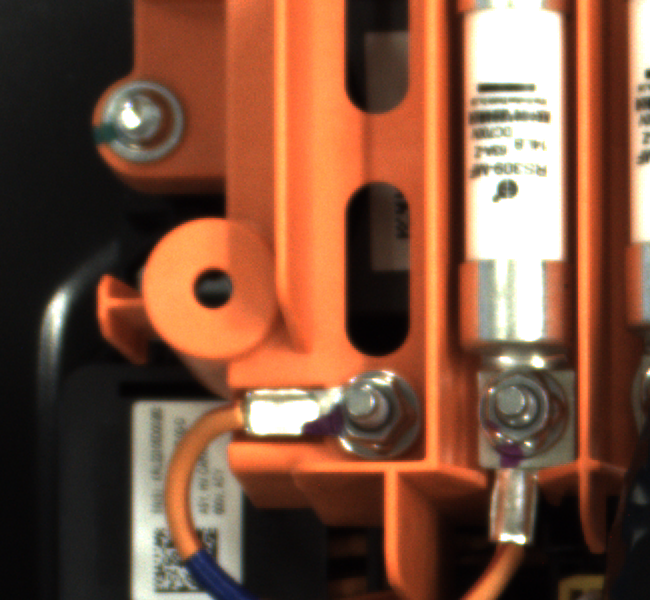screw_m: (90, 67, 193, 177)
screw_s: (310, 350, 435, 463), (471, 368, 574, 466)
